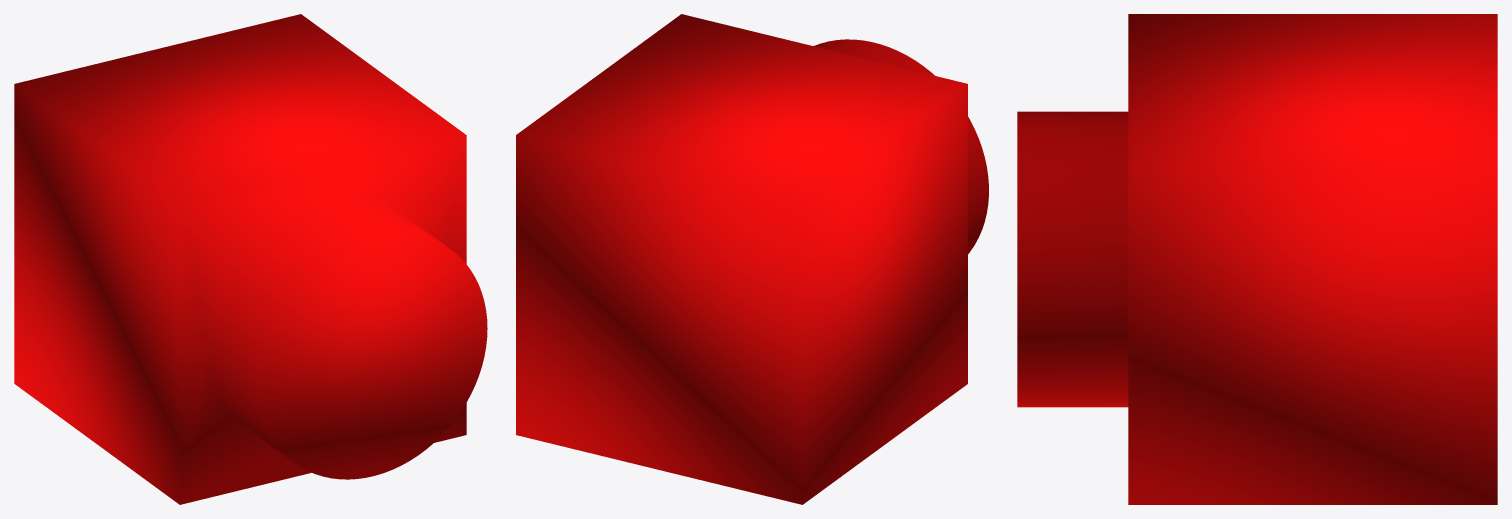
File: camera1.obj
3 renders of one model, left to right at view 1: azimuth 30°, elevation 25°; view 2: azimuth 150°, elevation 25°; view 3: azimuth 270°, elevation 25°, orthographic. The views are drawn at different scales.
Bounding box in the file's own units: 10 × 10 × 13.
